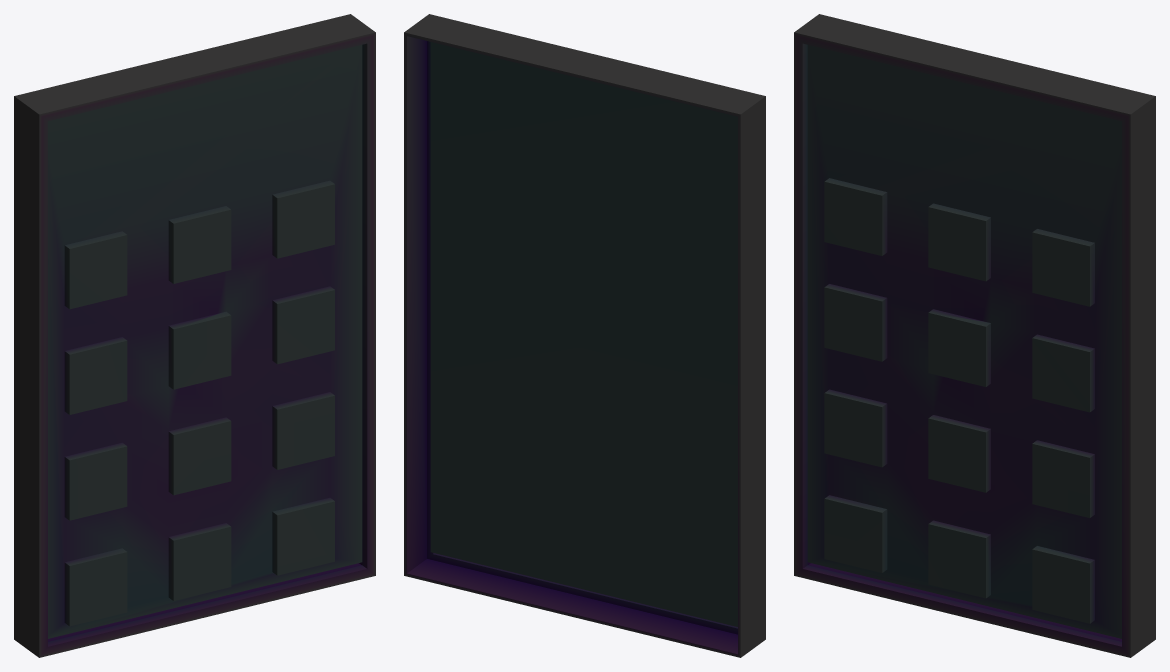
3 views of the same model, side by side, from view 1: azimuth 30°, elevation 25°; view 2: azimuth 150°, elevation 25°; view 3: azimuth 330°, elevation 25° (orthographic).
Visible parts, largest first — view 1: sheet, frame; view 2: sheet, frame; view 3: sheet, frame.
Boxes of the visible parts, bbox=[...] form: sheet: bbox=[48, 45, 362, 638]; frame: bbox=[14, 14, 375, 657]; sheet: bbox=[430, 42, 737, 626]; frame: bbox=[404, 14, 765, 657]; sheet: bbox=[807, 45, 1121, 638]; frame: bbox=[794, 14, 1155, 657].
Bounding box in the file's own units: 0.1167 × 0.18 × 0.0151.
